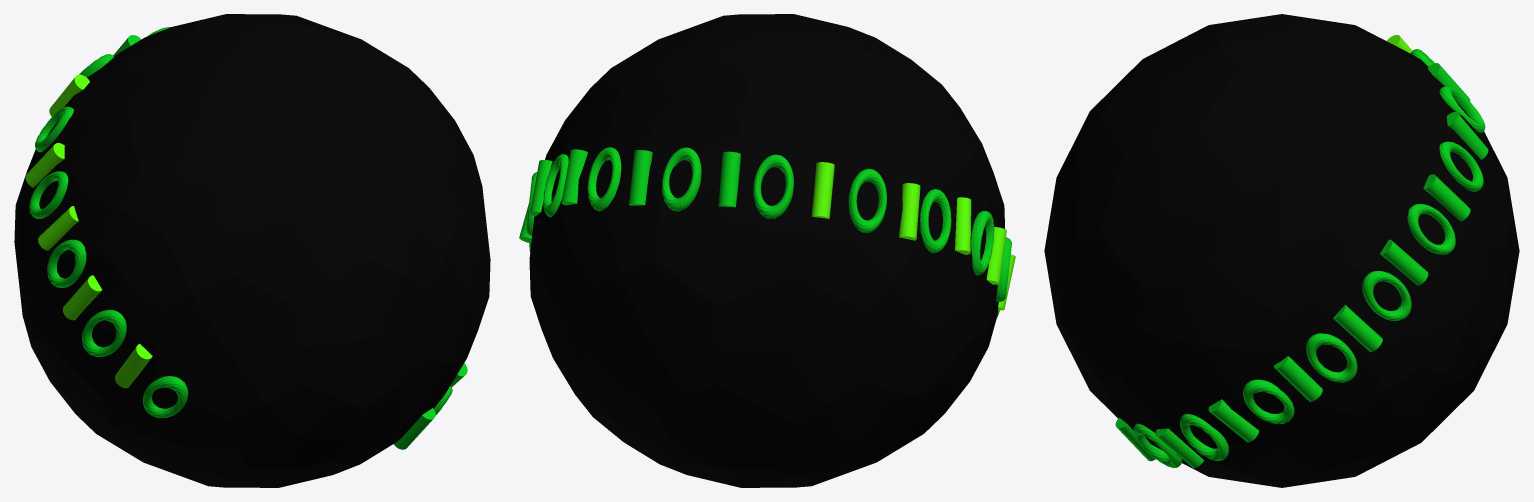
Rendered from bit_2.glb.
3 renders of one model, left to right at view 1: azimuth 30°, elevation 25°; view 2: azimuth 150°, elevation 25°; view 3: azimuth 270°, elevation 25°, orthographic.
Visible parts, largest first — view 1: 아이코스피어, TwistedTorus.011, TwistedTorus.013, TwistedTorus.009, TwistedTorus.005, 실린더.011, 실린더.012, TwistedTorus.004, 실린더.005, 실린더.008, 실린더.002, 실린더.013; view 2: 아이코스피어, TwistedTorus.002, TwistedTorus.001, TwistedTorus.004, TwistedTorus, TwistedTorus.005, TwistedTorus.009, 실린더.002, 실린더.001, 실린더.005, 실린더, TwistedTorus.003 (+5 smaller); view 3: 아이코스피어, TwistedTorus.007, TwistedTorus.006, TwistedTorus.003, TwistedTorus.008, TwistedTorus.010, TwistedTorus, 실린더.006, 실린더.007, 실린더.004, 실린더.003, TwistedTorus.012 (+4 smaller).
Boxes of the visible parts, left/top/right/bottom form: 아이코스피어: left=14, top=14, right=490, bottom=487; TwistedTorus.011: left=82, top=309, right=126, bottom=356; TwistedTorus.013: left=142, top=376, right=188, bottom=417; TwistedTorus.009: left=47, top=239, right=86, bottom=287; TwistedTorus.005: left=29, top=171, right=68, bottom=218; 실린더.011: left=63, top=275, right=102, bottom=320; 실린더.012: left=115, top=343, right=152, bottom=388; TwistedTorus.004: left=35, top=106, right=73, bottom=152; 실린더.005: left=25, top=143, right=64, bottom=187; 실린더.008: left=38, top=206, right=78, bottom=250; 실린더.002: left=49, top=74, right=89, bottom=116; 실린더.013: left=394, top=408, right=435, bottom=449; 아이코스피어: left=529, top=14, right=1004, bottom=487; TwistedTorus.002: left=753, top=154, right=793, bottom=218; TwistedTorus.001: left=662, top=147, right=701, bottom=211; TwistedTorus.004: left=848, top=168, right=886, bottom=233; TwistedTorus: left=587, top=147, right=621, bottom=211; TwistedTorus.005: left=920, top=189, right=951, bottom=253; TwistedTorus.009: left=971, top=210, right=994, bottom=275; 실린더.002: left=811, top=162, right=834, bottom=218; 실린더.001: left=718, top=151, right=740, bottom=207; 실린더.005: left=899, top=183, right=920, bottom=240; 실린더: left=629, top=150, right=652, bottom=205; TwistedTorus.003: left=543, top=154, right=568, bottom=217; 아이코스피어: left=1044, top=14, right=1519, bottom=487; TwistedTorus.007: left=1306, top=333, right=1357, bottom=382; TwistedTorus.006: left=1362, top=271, right=1411, bottom=321; TwistedTorus.003: left=1407, top=204, right=1455, bottom=254; TwistedTorus.008: left=1243, top=379, right=1294, bottom=423; TwistedTorus.010: left=1180, top=414, right=1228, bottom=460; TwistedTorus: left=1439, top=141, right=1483, bottom=191; 실린더.006: left=1333, top=305, right=1382, bottom=352; 실린더.007: left=1274, top=356, right=1322, bottom=401; 실린더.004: left=1380, top=239, right=1428, bottom=285; 실린더.003: left=1423, top=174, right=1470, bottom=221; TwistedTorus.012: left=1133, top=423, right=1182, bottom=467.
Size of the model in its own units: 1.89 by 1.86 by 1.85.
7 materials, 7 textured.
